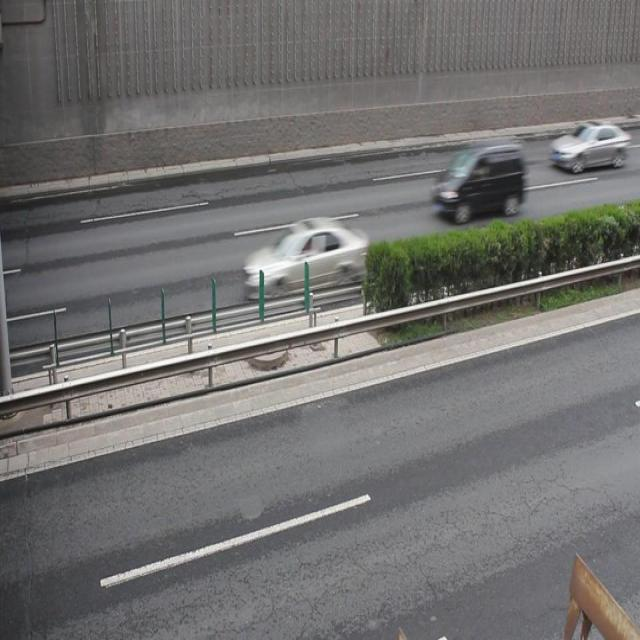car: (242, 216, 366, 300), (433, 138, 525, 218), (549, 119, 629, 173)
